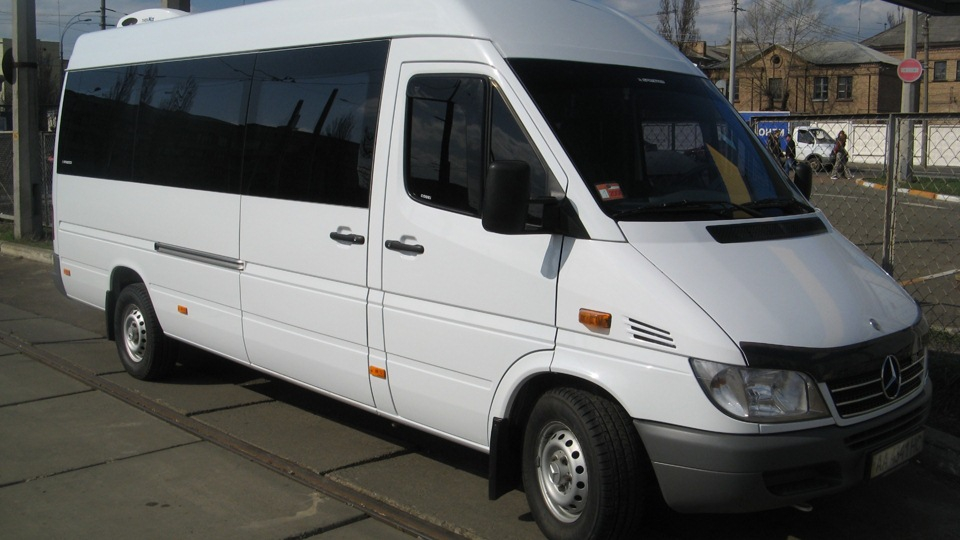van: (46, 9, 937, 540)
